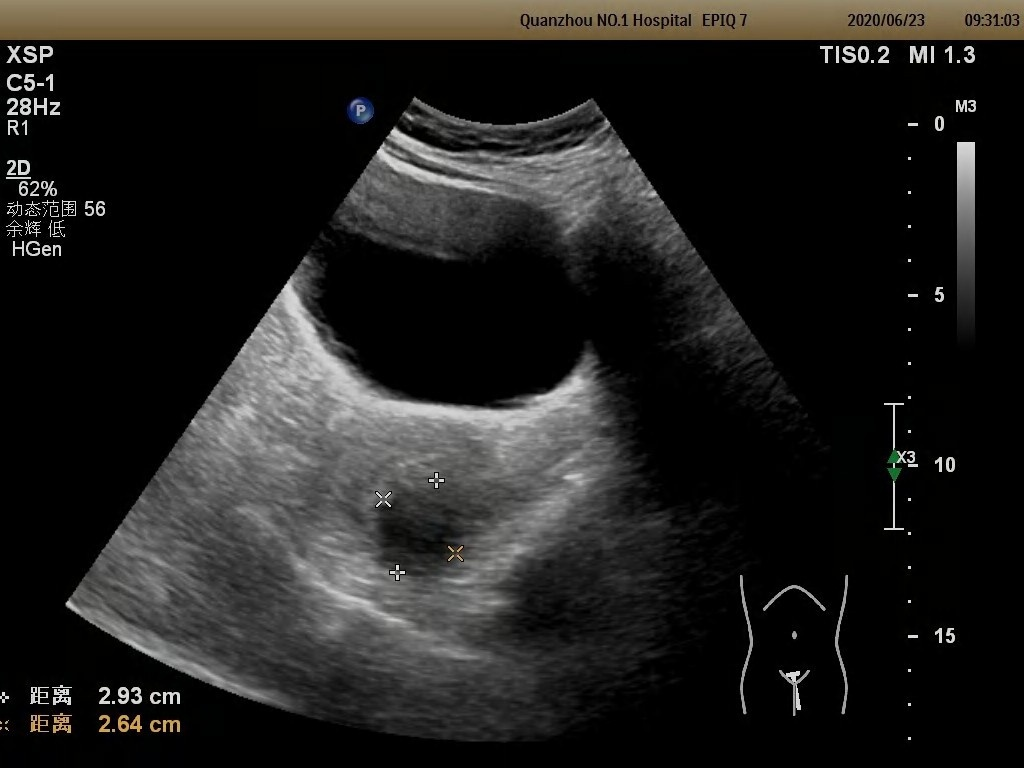肌瘤: (390, 492, 459, 562)
